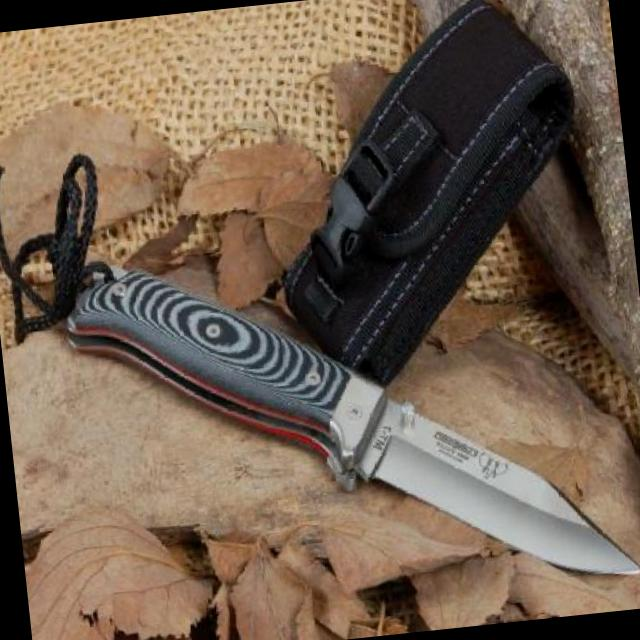knife: (305, 333, 640, 618)
